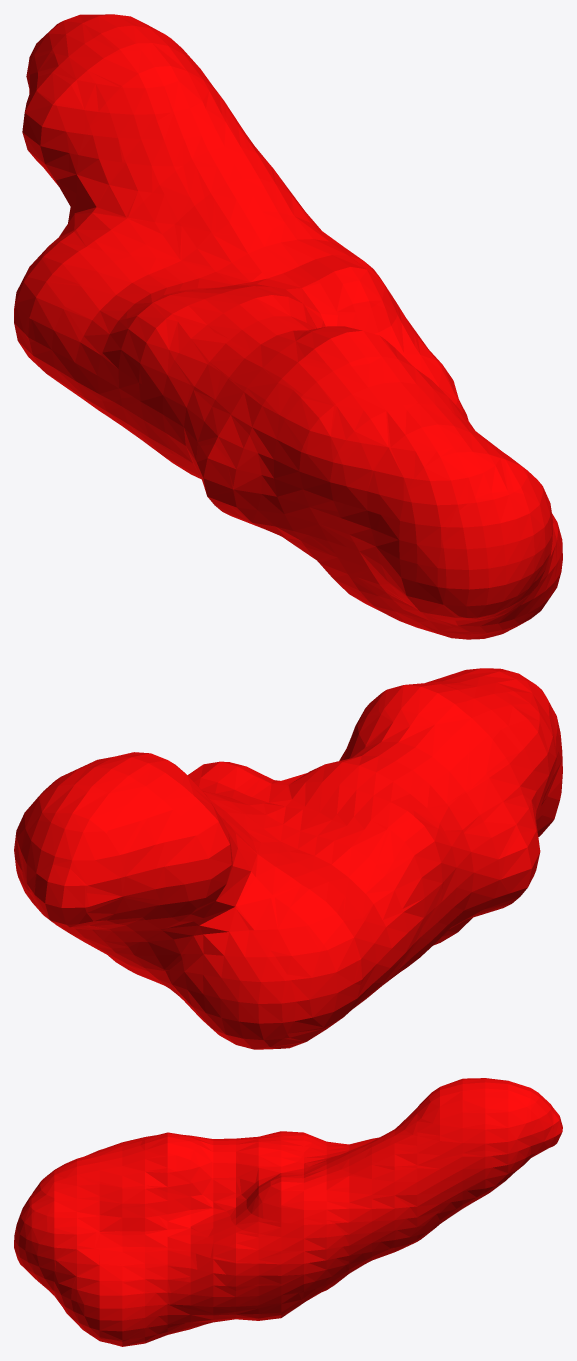
Rendered from pspB_coarse.dae.
3 views of the same model, one above another, from view 1: azimuth 30°, elevation 25°; view 2: azimuth 150°, elevation 25°; view 3: azimuth 270°, elevation 25° (orthographic). The views are drawn at different scales.
Parts seen in each view (by area): view 1: pspB; view 2: pspB; view 3: pspB.
Part boxes in pixels (x1,y1,x2,y2): pspB: (14,14,562,639); pspB: (14,668,562,1049); pspB: (14,1078,562,1346).
Bounding box in the file's own units: 25.27 × 32.44 × 66.56.
